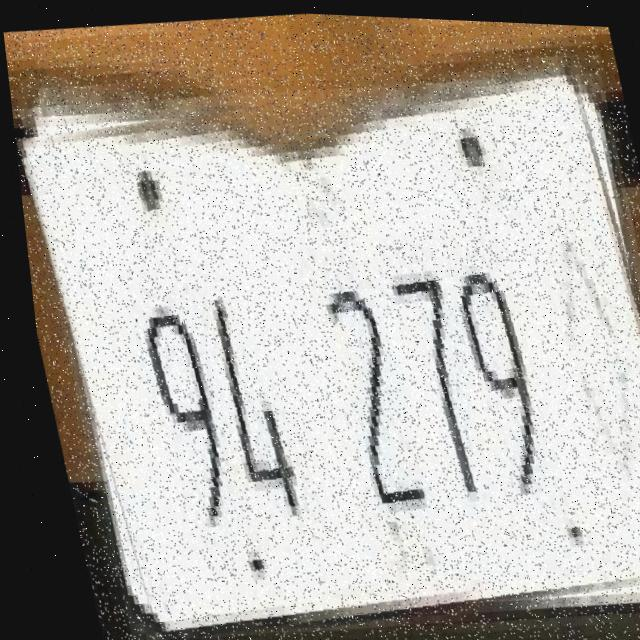LicensePlate: (10, 45, 640, 640)
